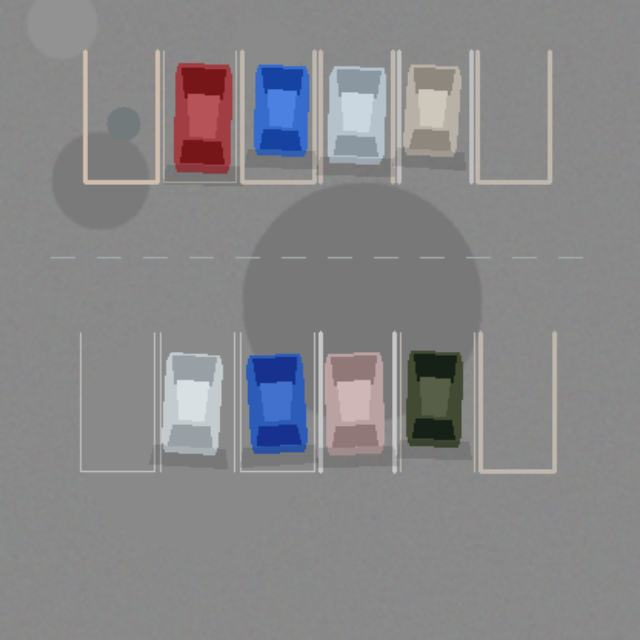space-empty: (80, 332, 154, 471), (480, 332, 554, 471), (85, 51, 157, 182), (477, 51, 549, 182)
space-occupied: (160, 332, 234, 471), (240, 332, 314, 471), (320, 332, 394, 471), (400, 332, 474, 471), (398, 51, 471, 182), (163, 51, 235, 182), (242, 51, 314, 182), (320, 51, 392, 182)
